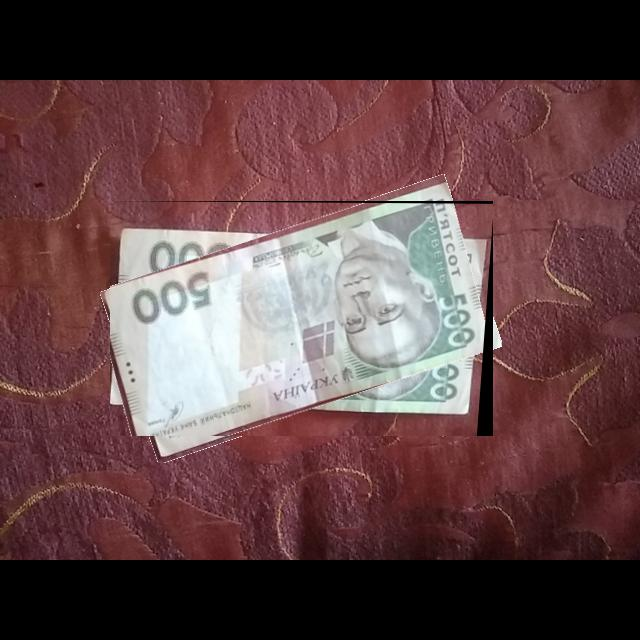500uah: (110, 201, 494, 437)
